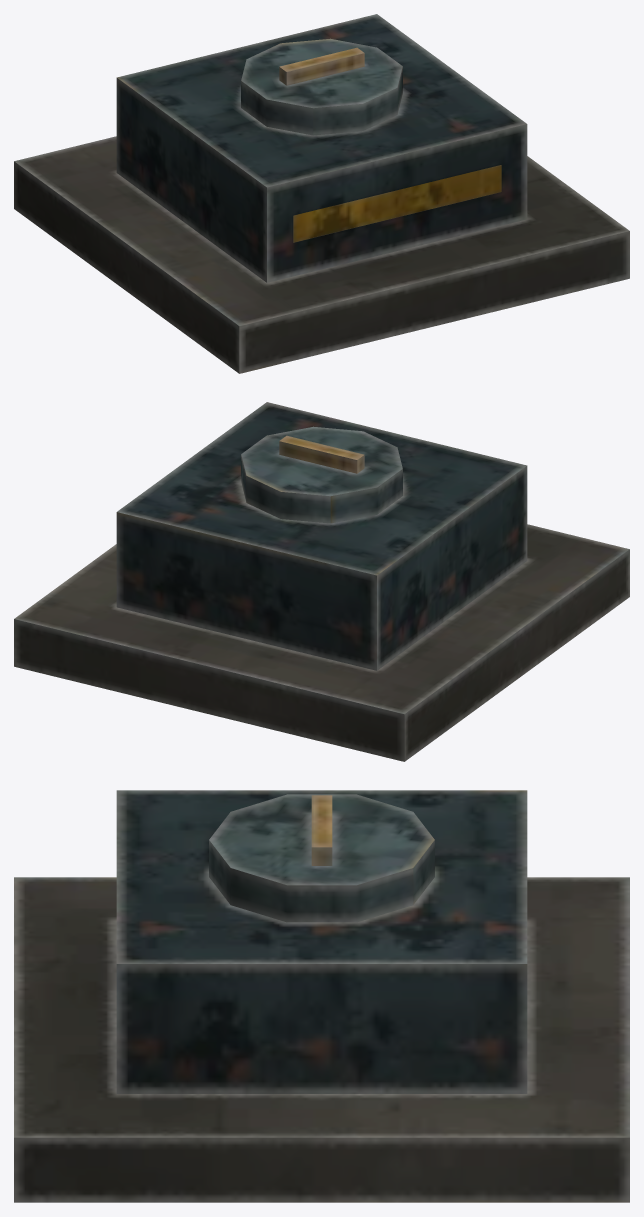
The model's file is vent_grate_0.glb.
The picture shows the model from 3 angles, top to bottom: view 1: azimuth 30°, elevation 25°; view 2: azimuth 150°, elevation 25°; view 3: azimuth 270°, elevation 25°; orthographic projection. The views are drawn at different scales.
Visible parts, largest first — view 1: te_prop_vent_grate_0; view 2: te_prop_vent_grate_0; view 3: te_prop_vent_grate_0.
Part boxes in pixels (<box>): te_prop_vent_grate_0: <box>14,14,629,373</box>; te_prop_vent_grate_0: <box>14,402,629,761</box>; te_prop_vent_grate_0: <box>14,790,629,1202</box>.
Bounding box in the file's own units: 0.3 × 0.135 × 0.3.
1 material, 1 textured.
